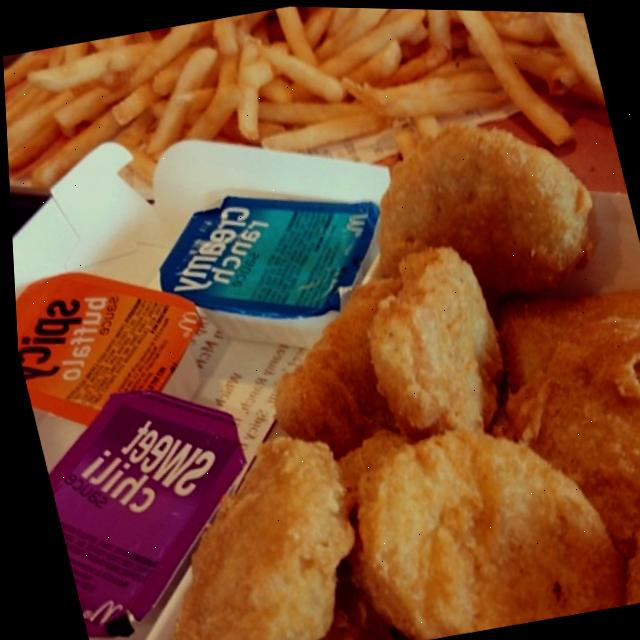鸡肉料理 含炸鸡: (158, 104, 640, 640)
